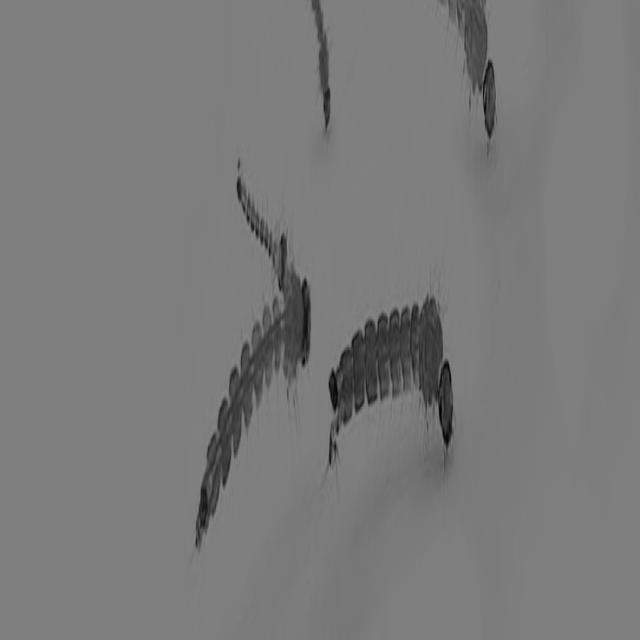larvas: (175, 257, 324, 569), (328, 307, 456, 437), (447, 2, 497, 135), (241, 166, 289, 283), (307, 0, 333, 127)
